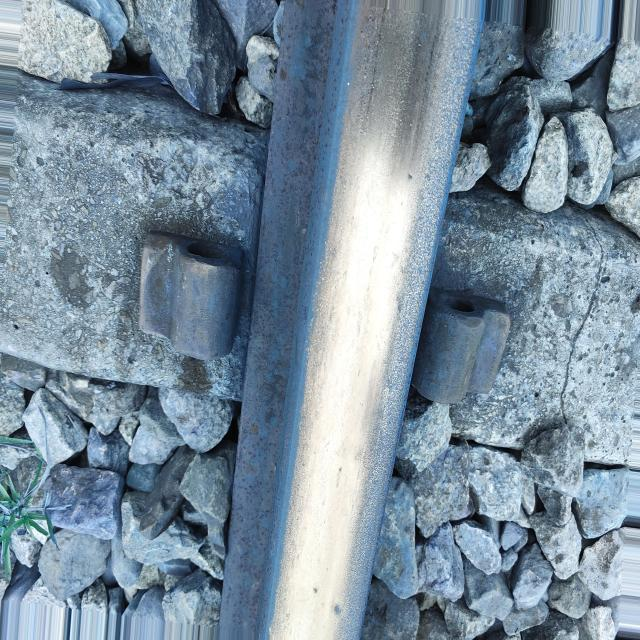Missing Fastener: (125, 211, 265, 390), (402, 264, 514, 420)
